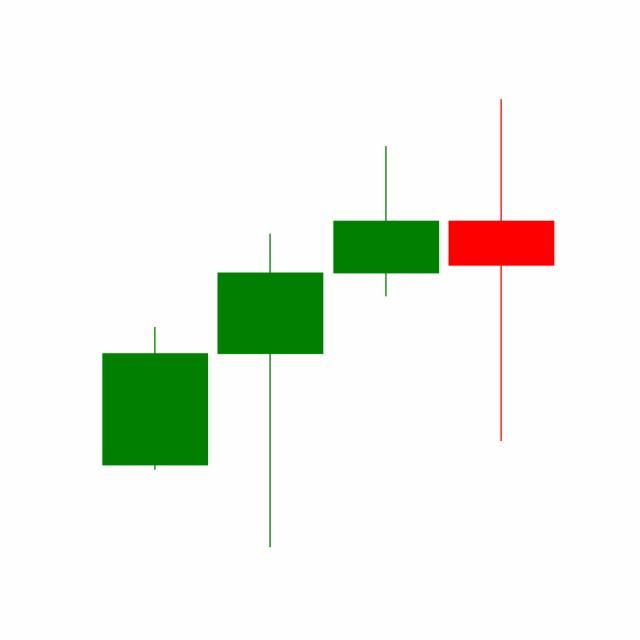Gravestone Doji: (329, 145, 445, 300)
